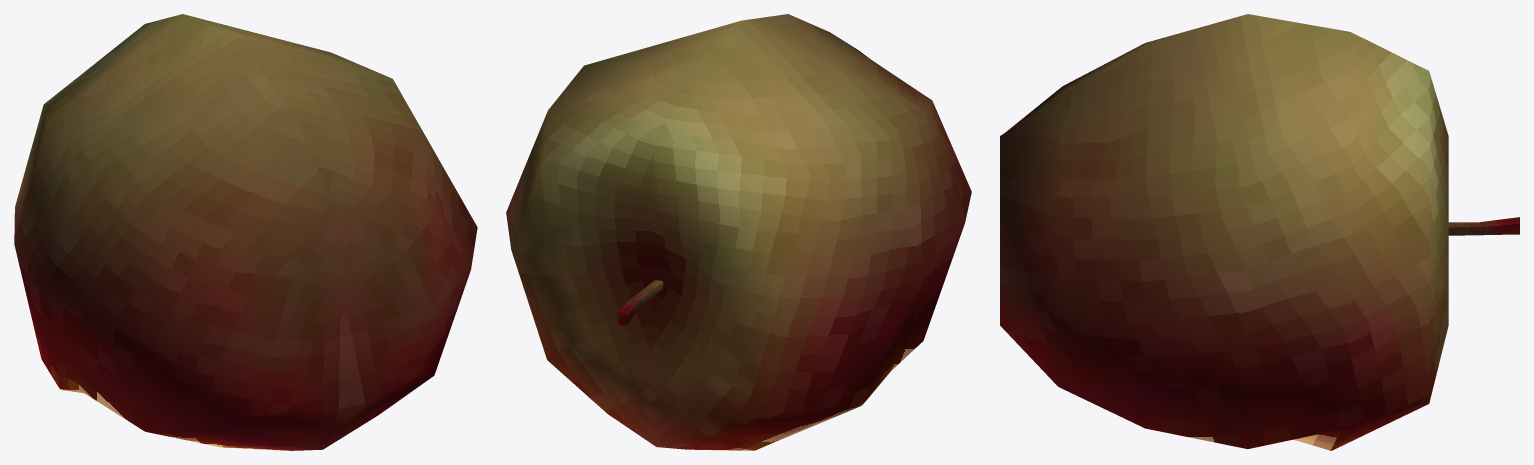
File: pir_m_hnd_foo_apple.fbx
3 views of the same model, side by side, from view 1: azimuth 30°, elevation 25°; view 2: azimuth 150°, elevation 25°; view 3: azimuth 270°, elevation 25° (orthographic). The views are drawn at different scales.
Visible parts, largest first — view 1: apple_mesh; view 2: apple_mesh, stalk; view 3: apple_mesh, stalk.
Boxes of the visible parts, bbox=[...] form: apple_mesh: bbox=[14, 14, 477, 450]; apple_mesh: bbox=[506, 14, 971, 450]; stalk: bbox=[616, 280, 663, 325]; apple_mesh: bbox=[1000, 14, 1448, 450]; stalk: bbox=[1448, 217, 1519, 235].
Size of the model in its own units: 41.41 by 39.39 by 44.86.
1 material, 1 textured.
